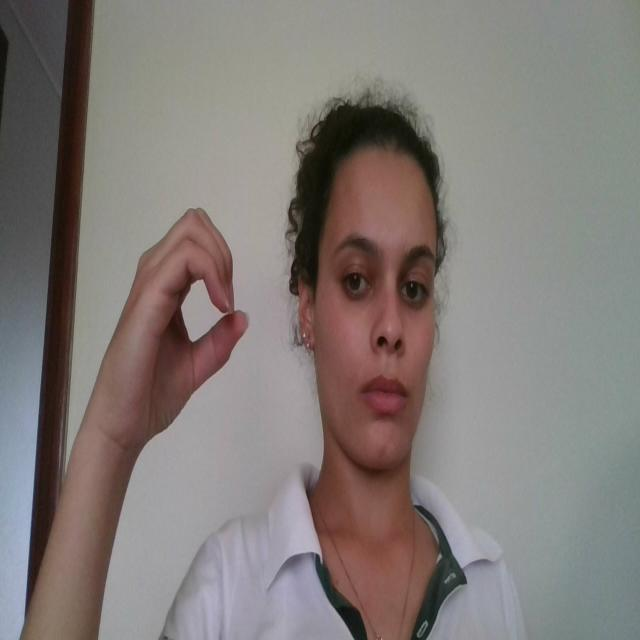O: (104, 204, 256, 434)
